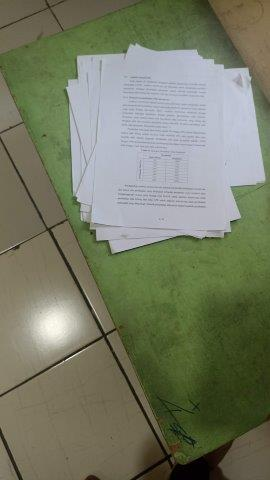kertas: (73, 43, 265, 257)
